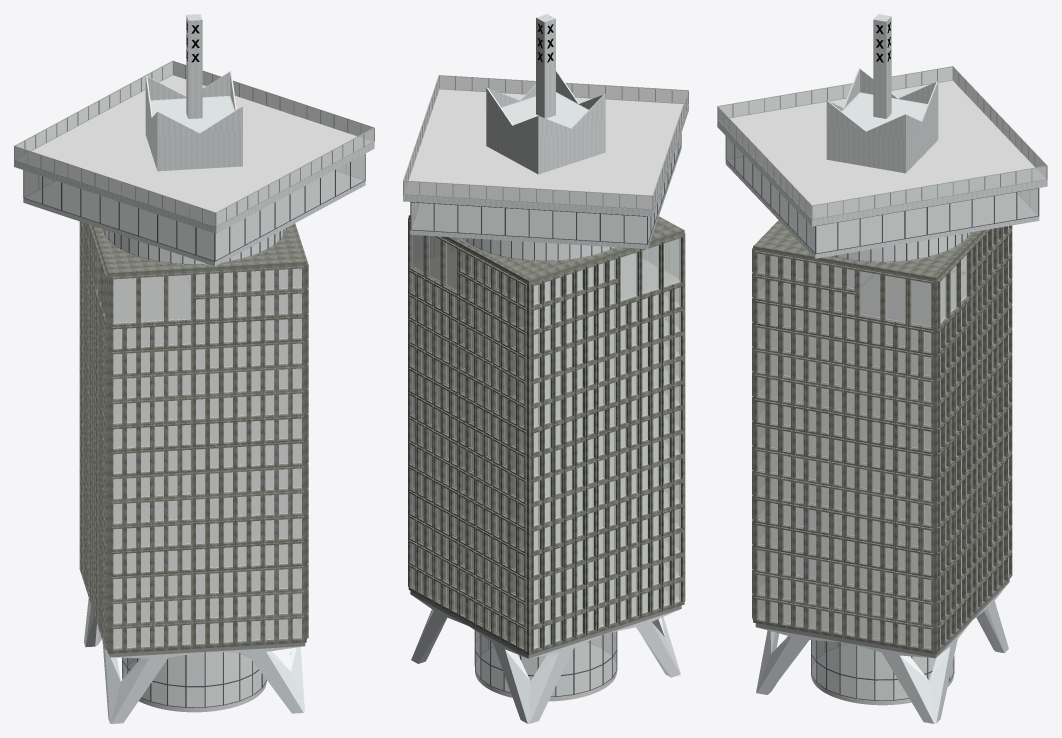
File: ADAM-TOREN.fbx
3 views of the same model, side by side, from view 1: azimuth 30°, elevation 25°; view 2: azimuth 150°, elevation 25°; view 3: azimuth 270°, elevation 25° (orthographic).
Parts seen in each view (by area): view 1: Glas - algemeen, 23 Vloer, Beton - algemeen, Verf - wit, Stucwerk - wit fijn, Porselein, Metaal - Chroom, Metaal - IJzer, Verf - grijs licht; view 2: Beton - algemeen, Glas - algemeen, 23 Vloer, Verf - wit, Stucwerk - wit fijn, Porselein, Metaal - IJzer, Metaal - Chroom, Verf - grijs licht; view 3: Beton - algemeen, Glas - algemeen, 23 Vloer, Verf - wit, Stucwerk - wit fijn, Porselein, Metaal - Chroom, Metaal - IJzer, Verf - grijs licht.
Boxes of the visible parts, x1,y1,x2,y2 form: Glas - algemeen: (15, 61, 373, 707); 23 Vloer: (17, 75, 371, 712); Beton - algemeen: (79, 221, 308, 653); Verf - wit: (97, 253, 301, 695); Stucwerk - wit fijn: (14, 14, 374, 266); Porselein: (84, 96, 304, 723); Metaal - Chroom: (14, 60, 374, 226); Metaal - IJzer: (23, 153, 365, 707); Verf - grijs licht: (109, 642, 305, 657); Beton - algemeen: (408, 215, 685, 655); Glas - algemeen: (404, 76, 688, 696); 23 Vloer: (405, 89, 683, 701); Verf - wit: (412, 235, 680, 648); Stucwerk - wit fijn: (403, 14, 688, 248); Porselein: (411, 93, 680, 723); Metaal - IJzer: (410, 133, 681, 696); Metaal - Chroom: (403, 75, 688, 209); Verf - grijs licht: (410, 590, 681, 658); Beton - algemeen: (752, 220, 1012, 654); Glas - algemeen: (718, 67, 1046, 700); 23 Vloer: (720, 80, 1044, 705); Verf - wit: (757, 226, 1008, 698); Stucwerk - wit fijn: (717, 14, 1047, 258); Porselein: (756, 93, 1008, 723); Metaal - Chroom: (717, 66, 1047, 219); Metaal - IJzer: (725, 136, 1039, 700); Verf - grijs licht: (755, 579, 1009, 658).
Bounding box in the file's own units: 4316 × 4315 × 9465.
Materials: 13 (3 with a texture image).
